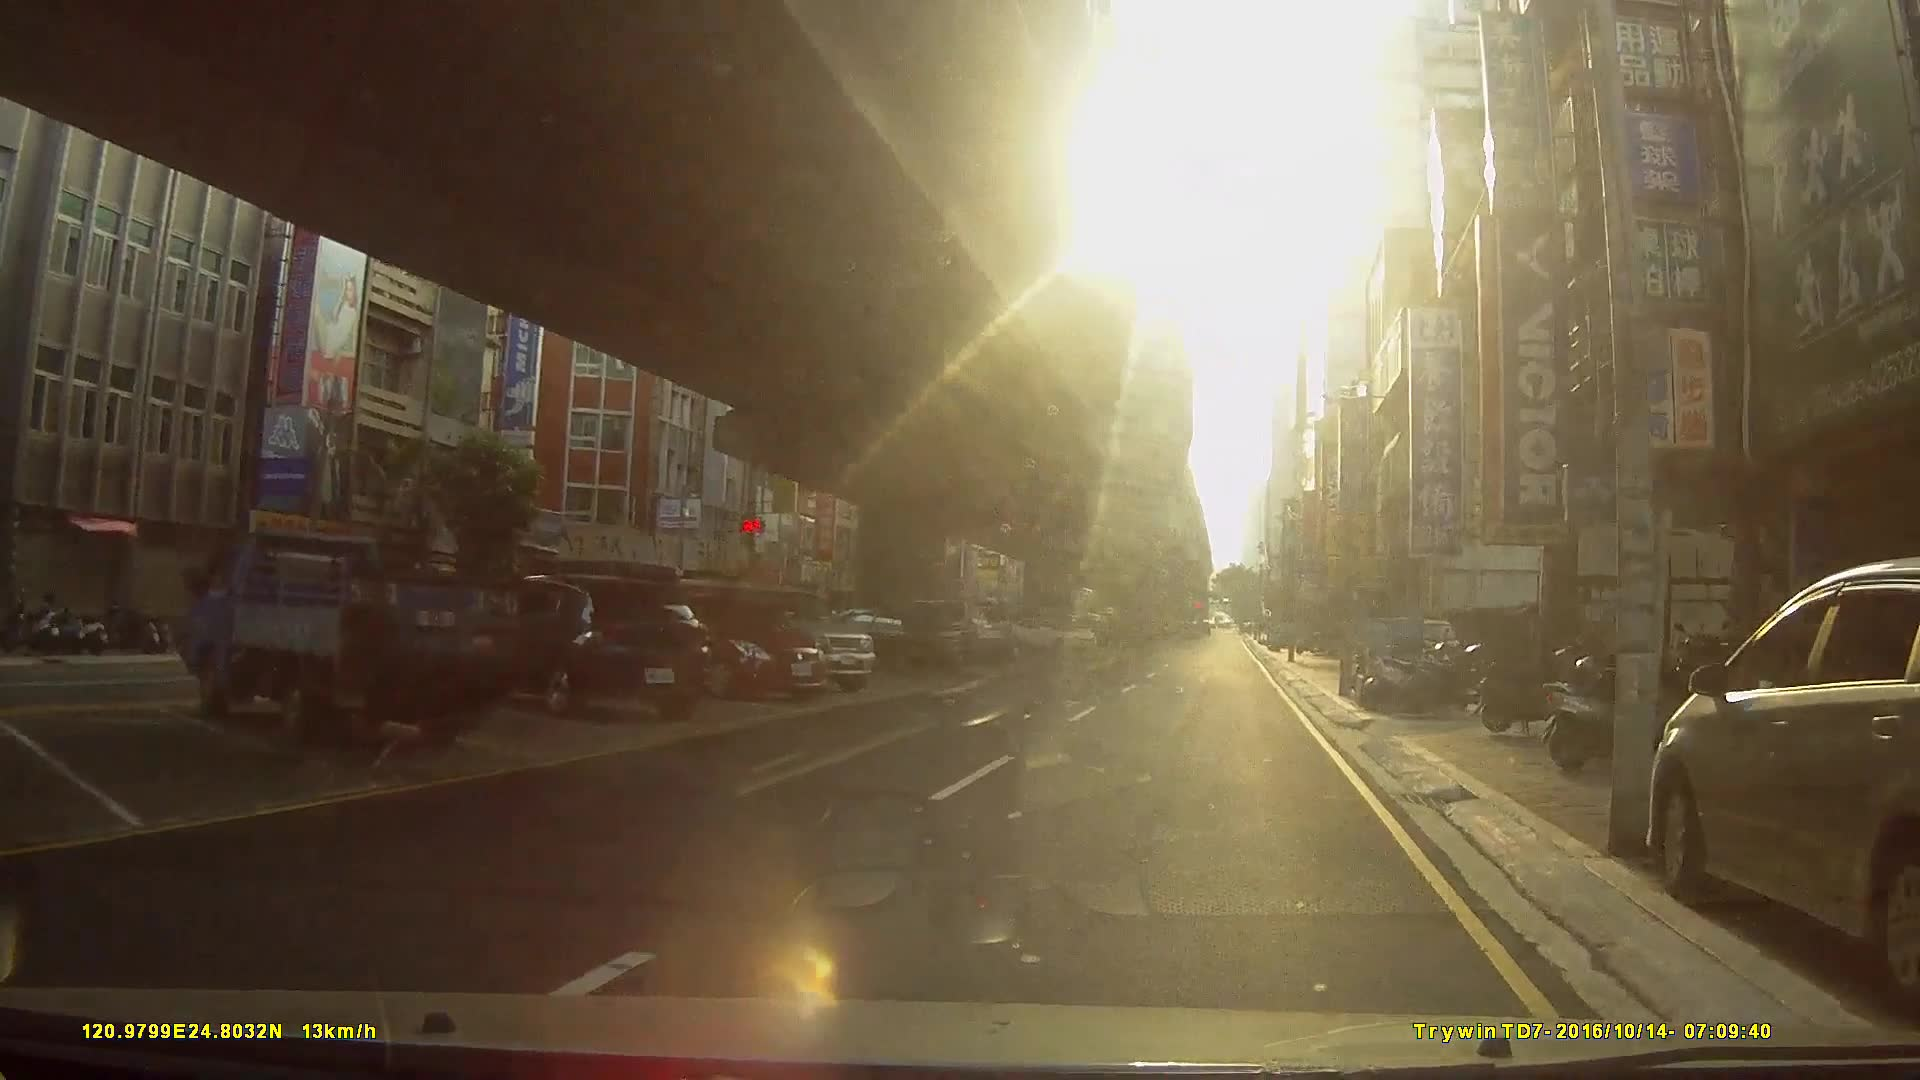vehicle: (1647, 553, 1920, 1025), (174, 529, 526, 752), (471, 574, 712, 725), (637, 589, 827, 703), (806, 611, 967, 676), (882, 596, 1015, 659), (1007, 615, 1095, 654)
